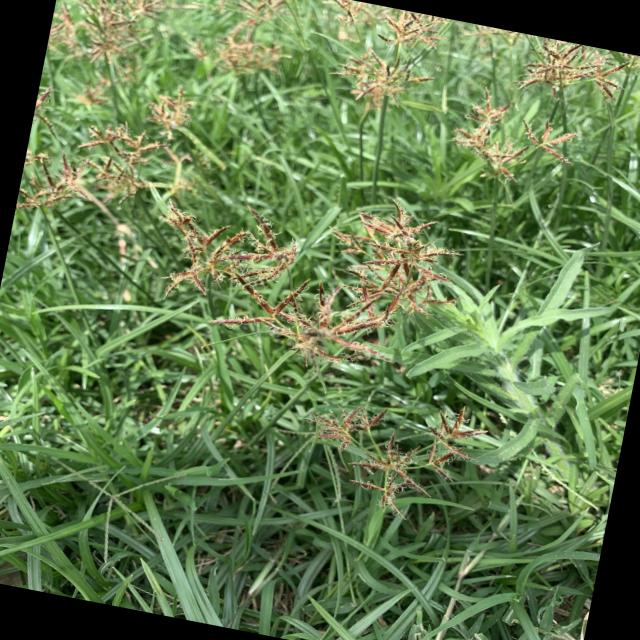cyperus: (134, 153, 471, 398), (288, 372, 491, 530), (440, 80, 584, 206), (315, 0, 450, 104), (170, 0, 303, 86), (44, 0, 179, 82), (519, 34, 640, 107), (84, 121, 172, 202), (16, 146, 96, 218), (144, 78, 202, 144), (457, 22, 520, 57), (70, 75, 116, 117), (31, 86, 65, 134)
